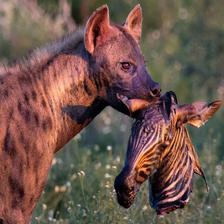hyena: (0, 3, 158, 224)
